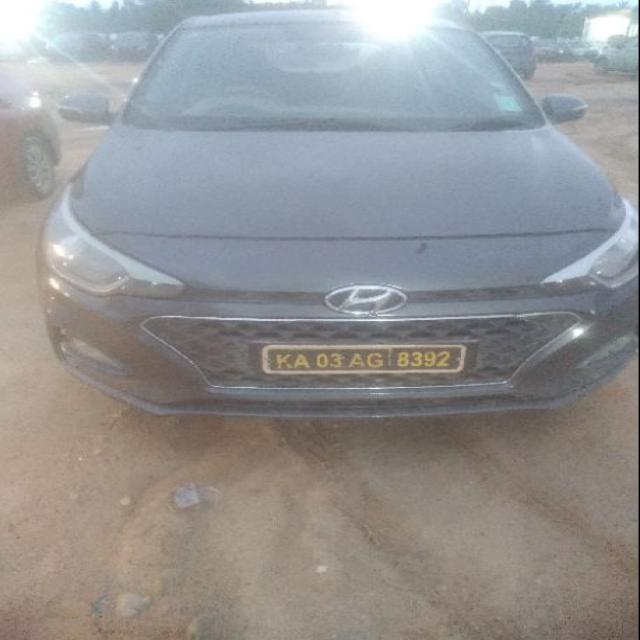license_plate: (257, 342, 468, 375)
